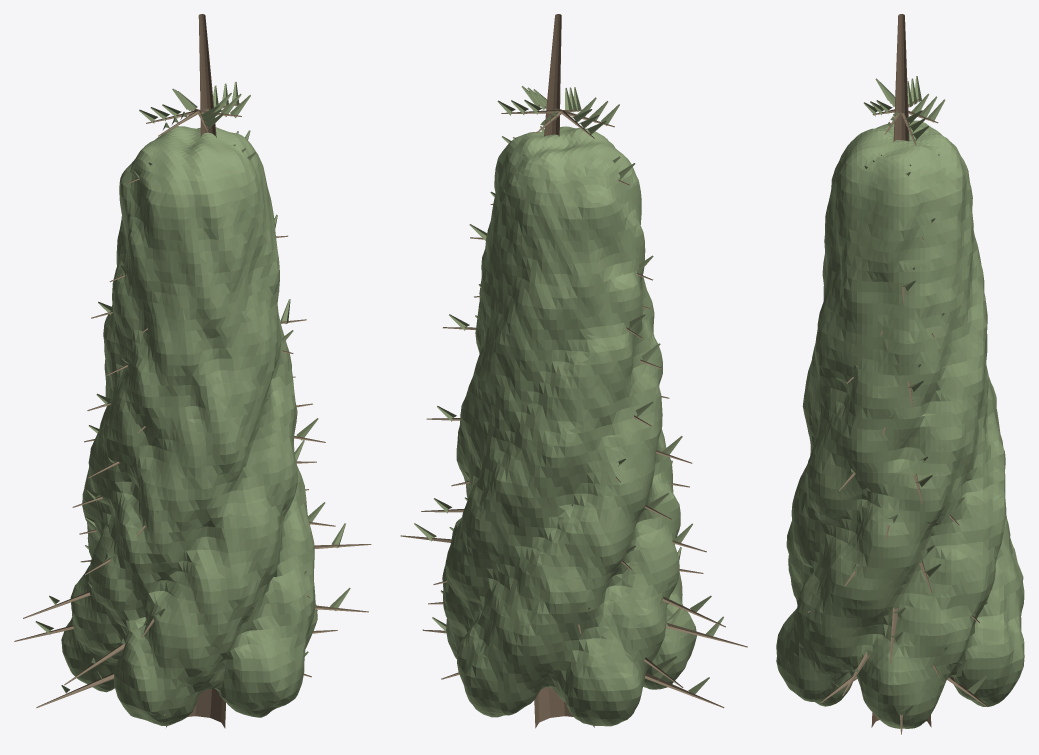
File: taiga_larch.glb
3 renders of one model, left to right at view 1: azimuth 30°, elevation 25°; view 2: azimuth 150°, elevation 25°; view 3: azimuth 270°, elevation 25°, orthographic.
Visible parts, largest first — view 1: taiga_larch; view 2: taiga_larch; view 3: taiga_larch.
Boxes of the visible parts, bbox=[...] form: taiga_larch: bbox=[14, 14, 371, 728]; taiga_larch: bbox=[400, 14, 747, 728]; taiga_larch: bbox=[776, 14, 1024, 734].
Bounding box in the file's own units: 4.07 × 8.2 × 2.58.
